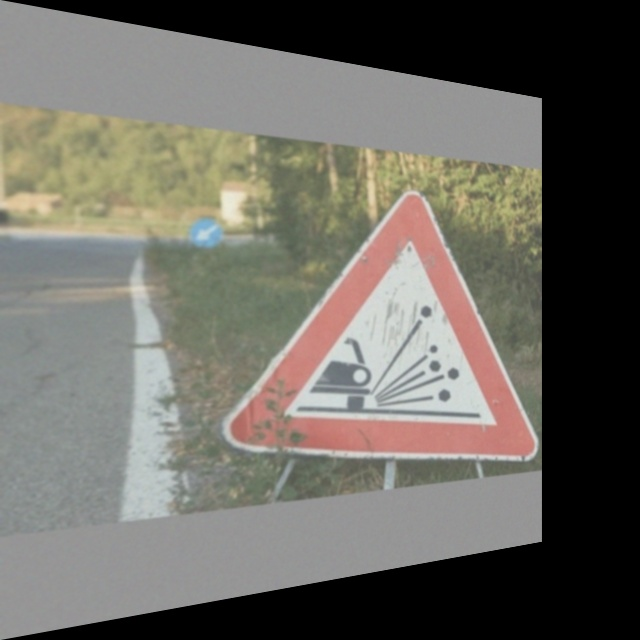Loose_Gravel: (252, 176, 526, 471)
